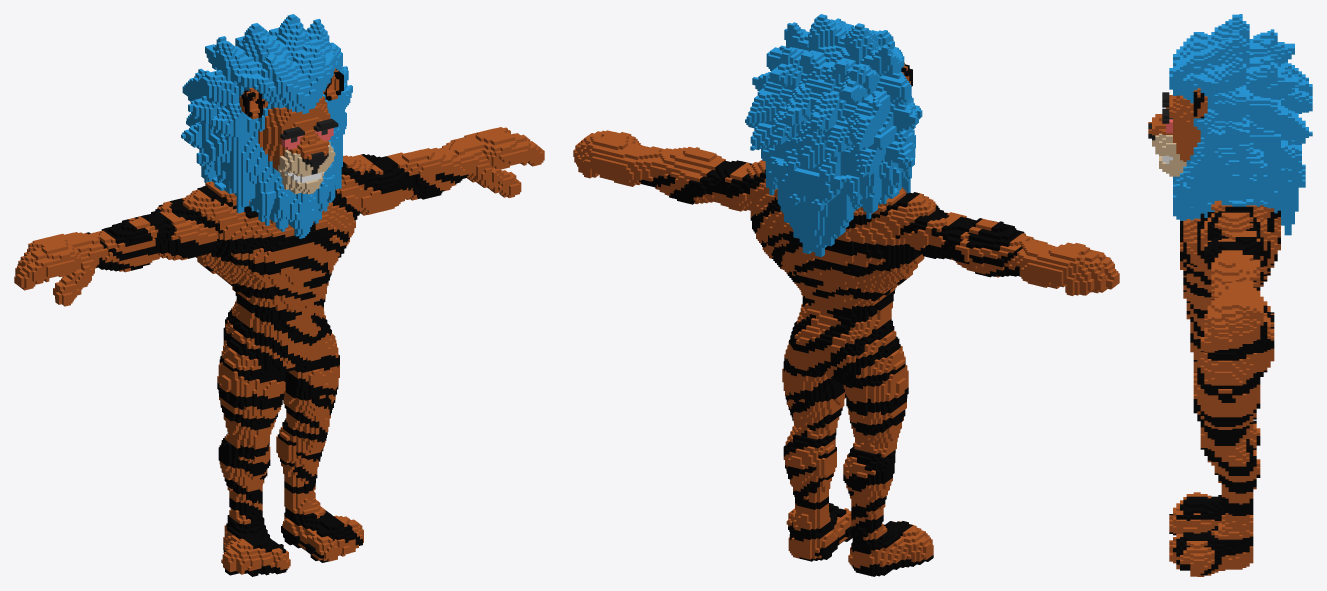
Rendered from 540-BBpiqZ5R.glb.
3 views of the same model, side by side, from view 1: azimuth 30°, elevation 25°; view 2: azimuth 150°, elevation 25°; view 3: azimuth 270°, elevation 25° (orthographic). The views are drawn at different scales.
Visible parts, largest first — view 1: big_smile; view 2: big_smile; view 3: big_smile.
Boxes of the visible parts, x1,y1,x2,y2 form: big_smile: (14, 14, 544, 576); big_smile: (573, 14, 1119, 576); big_smile: (1148, 14, 1312, 576).
Bounding box in the file's own units: 17.2 × 16.5 × 4.7.
4 materials, 4 textured.
